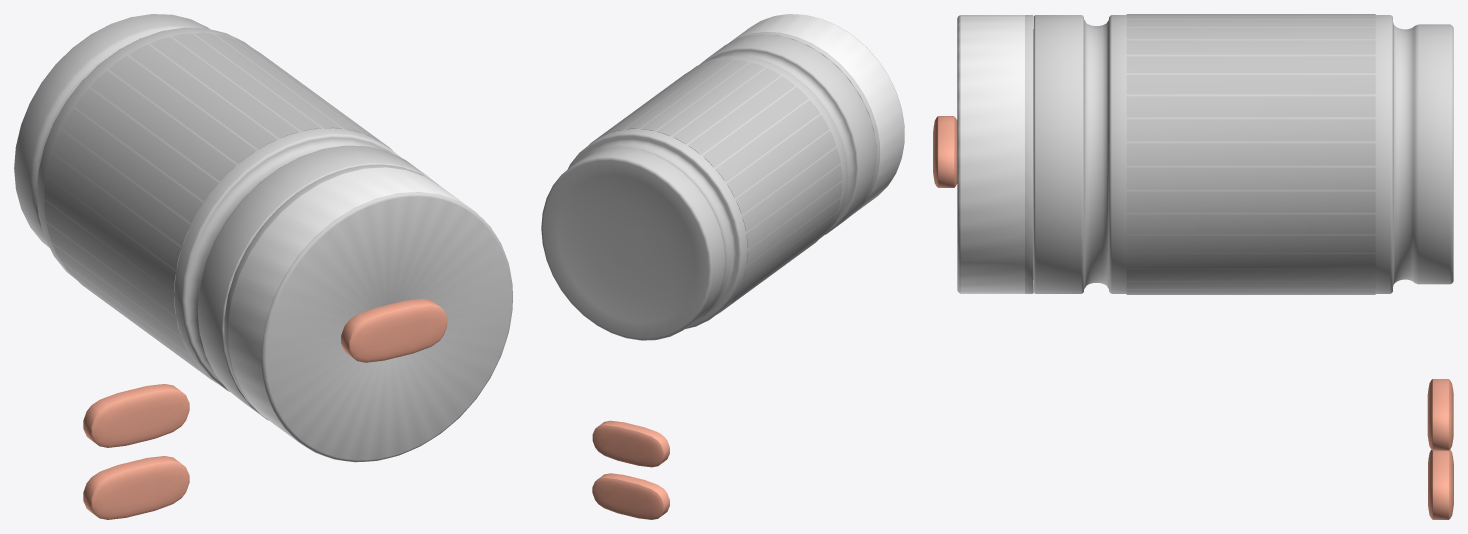
File: Centrum1.obj
3 renders of one model, left to right at view 1: azimuth 30°, elevation 25°; view 2: azimuth 150°, elevation 25°; view 3: azimuth 270°, elevation 25°, orthographic. The views are drawn at different scales.
Parts seen in each view (by area): view 1: Object01_pivot, Cylinder01, Cylinder02, Box01, Box02, Box03; view 2: Cylinder02, Cylinder01, Object01_pivot, Box03, Box02; view 3: Cylinder01, Cylinder02, Object01_pivot, Box02, Box03, Box01.
Part boxes in pixels (bbox=[...]): Object01_pivot: bbox=[224, 164, 512, 462]; Cylinder01: bbox=[44, 32, 392, 383]; Cylinder02: bbox=[14, 14, 436, 420]; Box01: bbox=[341, 298, 447, 362]; Box02: bbox=[83, 384, 189, 447]; Box03: bbox=[83, 456, 189, 519]; Cylinder02: bbox=[541, 34, 876, 340]; Cylinder01: bbox=[589, 59, 842, 314]; Object01_pivot: bbox=[728, 14, 904, 213]; Box03: bbox=[592, 473, 669, 519]; Box02: bbox=[592, 420, 669, 467]; Cylinder01: bbox=[1126, 14, 1375, 294]; Cylinder02: bbox=[1033, 15, 1453, 293]; Object01_pivot: bbox=[957, 15, 1033, 293]; Box02: bbox=[1427, 379, 1453, 450]; Box03: bbox=[1428, 449, 1453, 519]; Box01: bbox=[933, 116, 957, 187].
Bounding box in the file's own units: 18.9 × 35.68 × 35.14.
